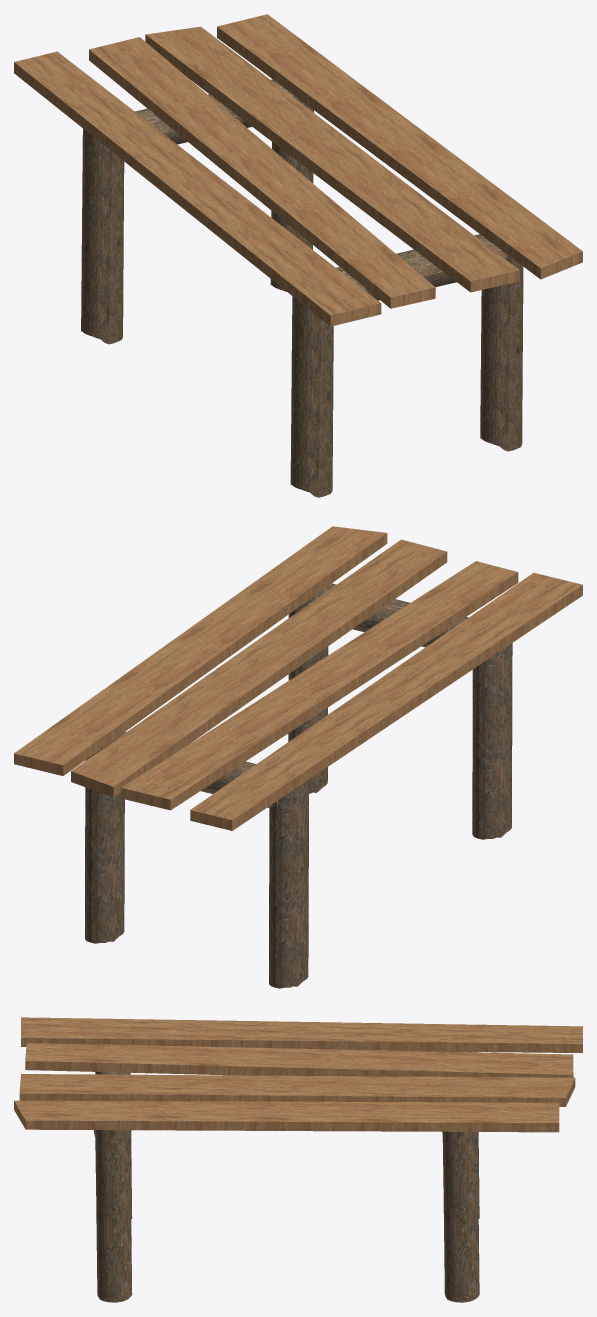
File: wood_table.glb
3 renders of one model, top to bottom at view 1: azimuth 30°, elevation 25°; view 2: azimuth 150°, elevation 25°; view 3: azimuth 270°, elevation 25°, orthographic. The views are drawn at different scales.
Visible parts, largest first — view 1: Cylinder.011; view 2: Cylinder.011; view 3: Cylinder.011.
Part boxes in pixels (box(x1,y1,x2,y2)): Cylinder.011: box(14, 14, 582, 497); Cylinder.011: box(14, 526, 582, 988); Cylinder.011: box(14, 1017, 582, 1302).
Bounding box in the file's own units: 1.21 × 0.9975 × 2.76.
Materials: 3 (3 with a texture image).
